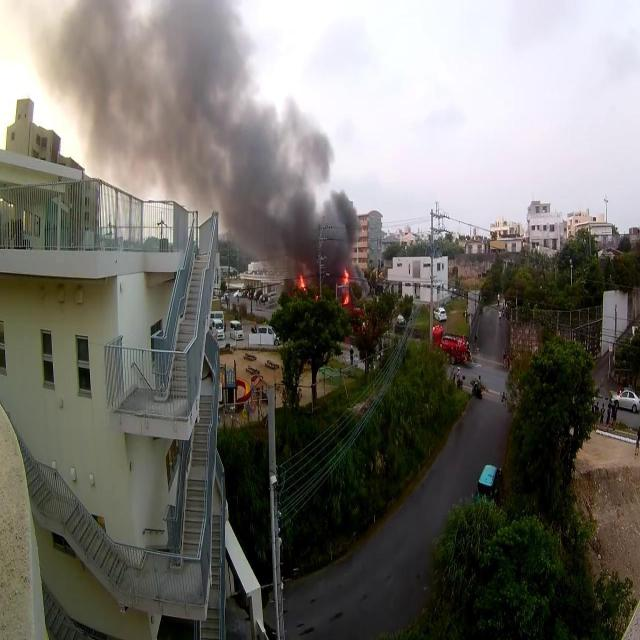Fire: (341, 266, 351, 286), (342, 292, 350, 306), (300, 276, 306, 290)
